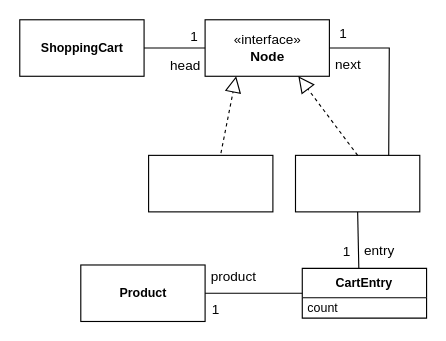
The diagram is 446 pixels wide and 341 high, and some of its shapes have lost their labels. Each missing label, with the centre of its shape:
"EndNode" goes at (210,183).
"InnerNode" goes at (357,183).
